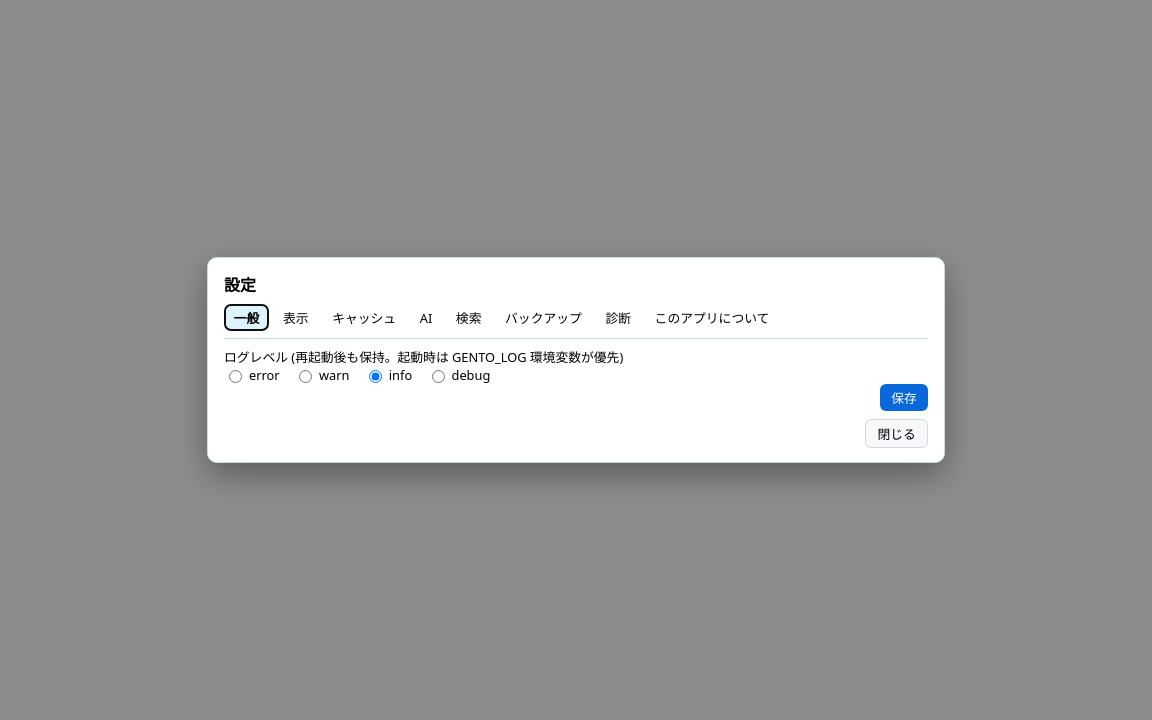
it: SettingsDialog › AIタブ: endpoint分類とルートの外部送信行列を表示
Click the tab "AI" at (426, 318), box [410, 304, 442, 332]
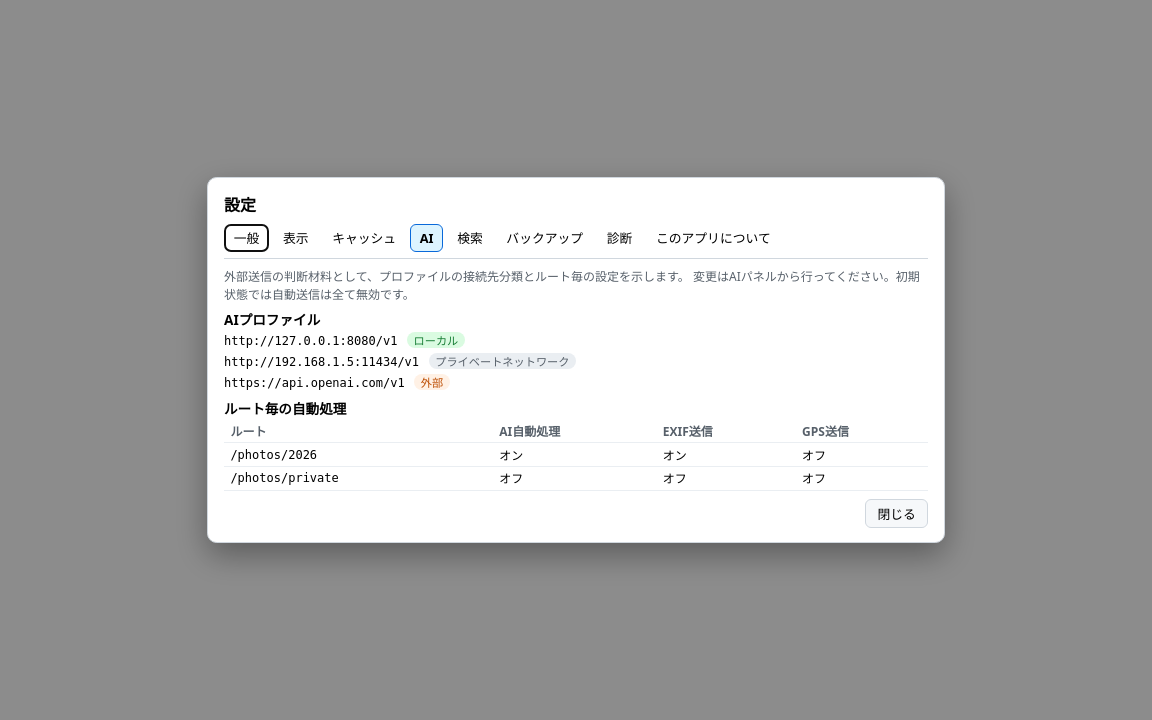
Result: the table with test id "ai-roots-matrix" is shown at [224, 419, 928, 491]
Result: the table with test id "ai-roots-matrix" shows "/photos/2026" at [230, 448, 317, 462]
Result: the table with test id "ai-roots-matrix" shows "オン" at [499, 446, 523, 464]
